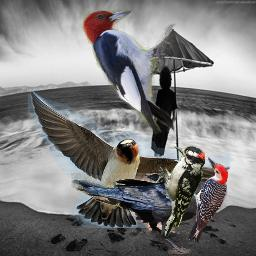Crow: (71, 173, 223, 254)
Swallow: (28, 89, 230, 228)
Woodpecker: (80, 5, 179, 135), (155, 144, 205, 237), (182, 156, 228, 242)
